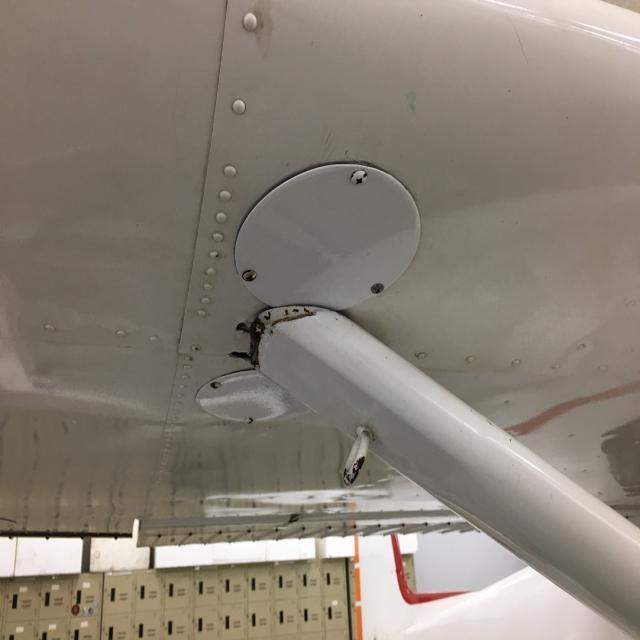Crack: (205, 289, 302, 397), (331, 438, 370, 490)
